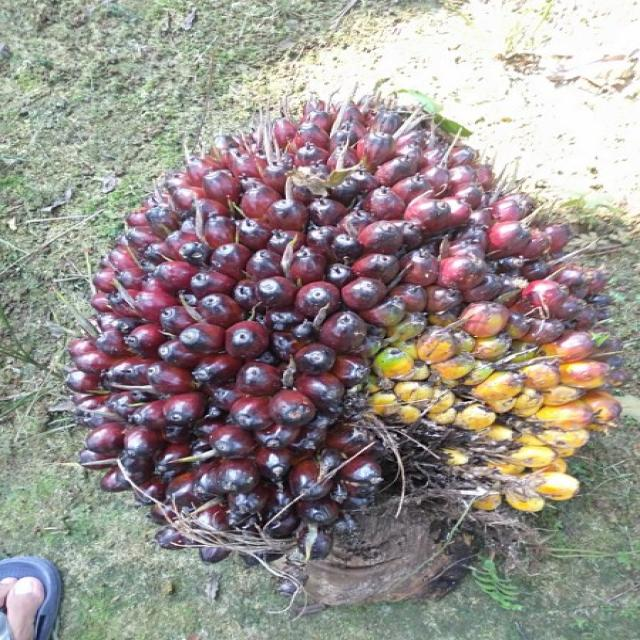fraksi 1: (40, 44, 640, 596)
